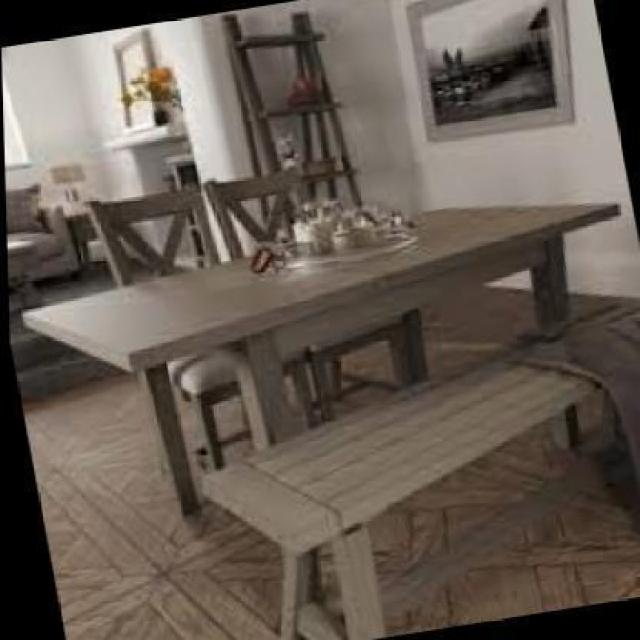tables: (20, 200, 620, 517)
